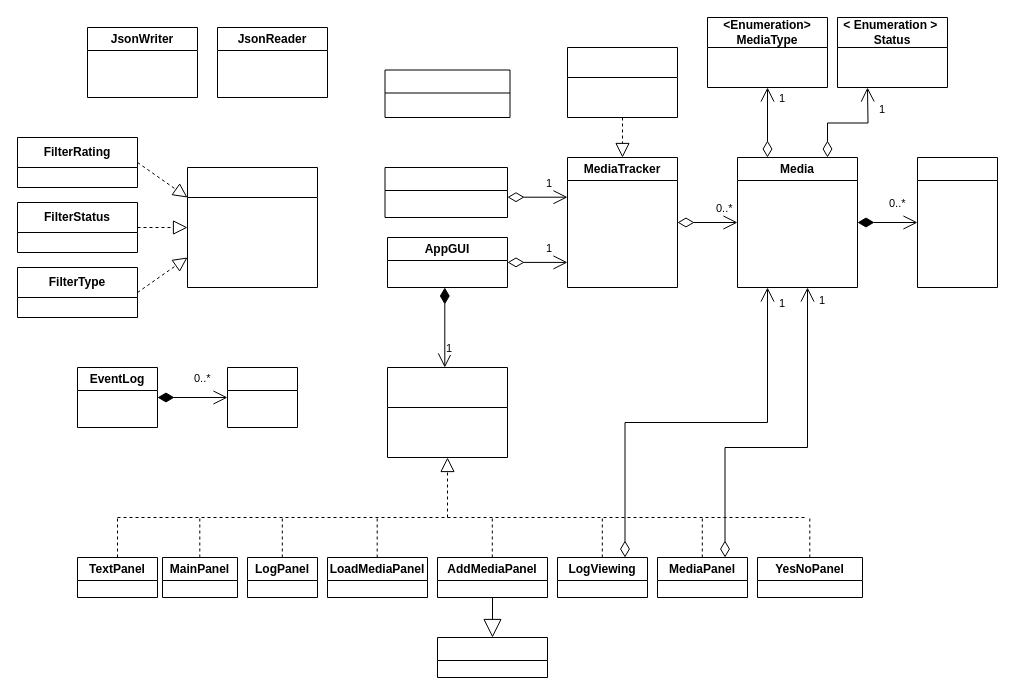
Image size: 1015x695. Some labels were removed from this diagram. Each missing label, with the centre of its shape:
"<Abstract> AppPanelUI" goes at point (447, 412).
"<Abstract> Filter" goes at point (252, 227).
"<Interface> Writeable" goes at point (622, 82).
"EditMediaPanel" goes at point (492, 657).
"Event" goes at point (262, 397).
"Main" goes at point (447, 93).
"MediaTrackerApp" goes at point (446, 192).
"ViewLog" goes at point (957, 222).
